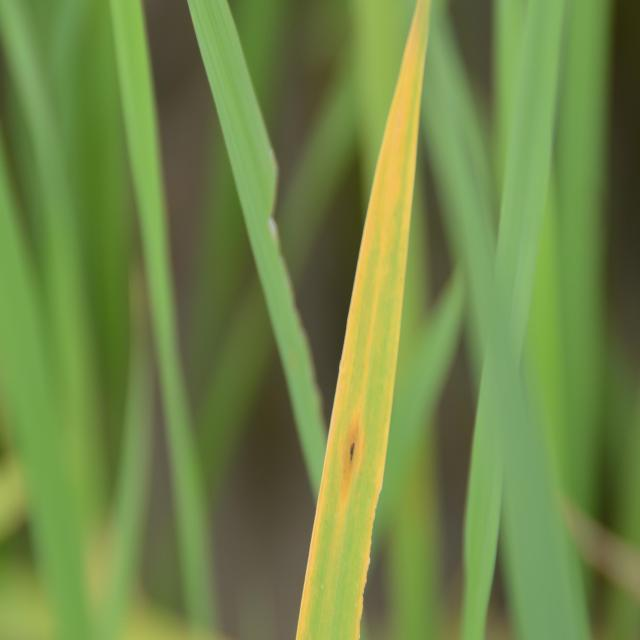Rice Tungro: (294, 52, 429, 640)
